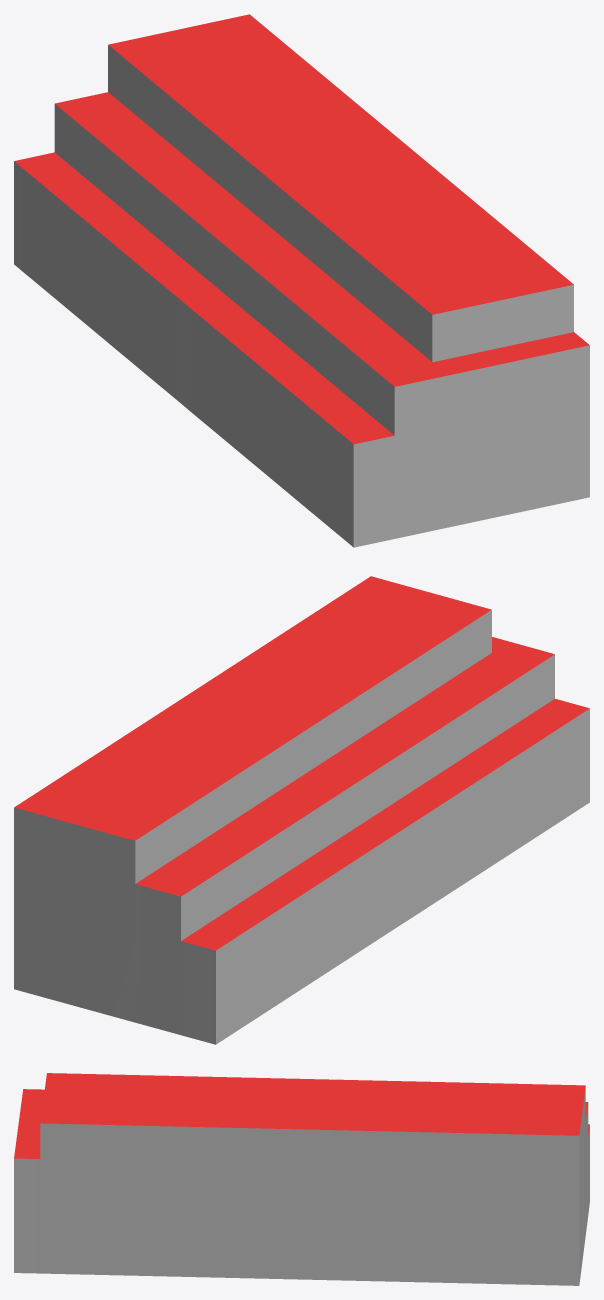
Rendered from DEBY_LOD2_18271438.dae.
The picture shows the model from 3 angles, top to bottom: view 1: azimuth 30°, elevation 25°; view 2: azimuth 150°, elevation 25°; view 3: azimuth 270°, elevation 25°; orthographic projection. The views are drawn at different scales.
Size of the model in its own units: 16.43 by 41.23 by 11.86.
